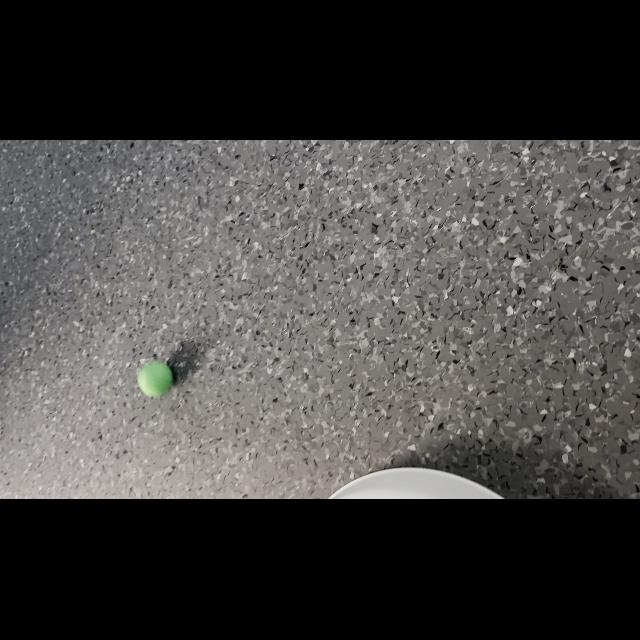objects: (134, 356, 176, 398)
